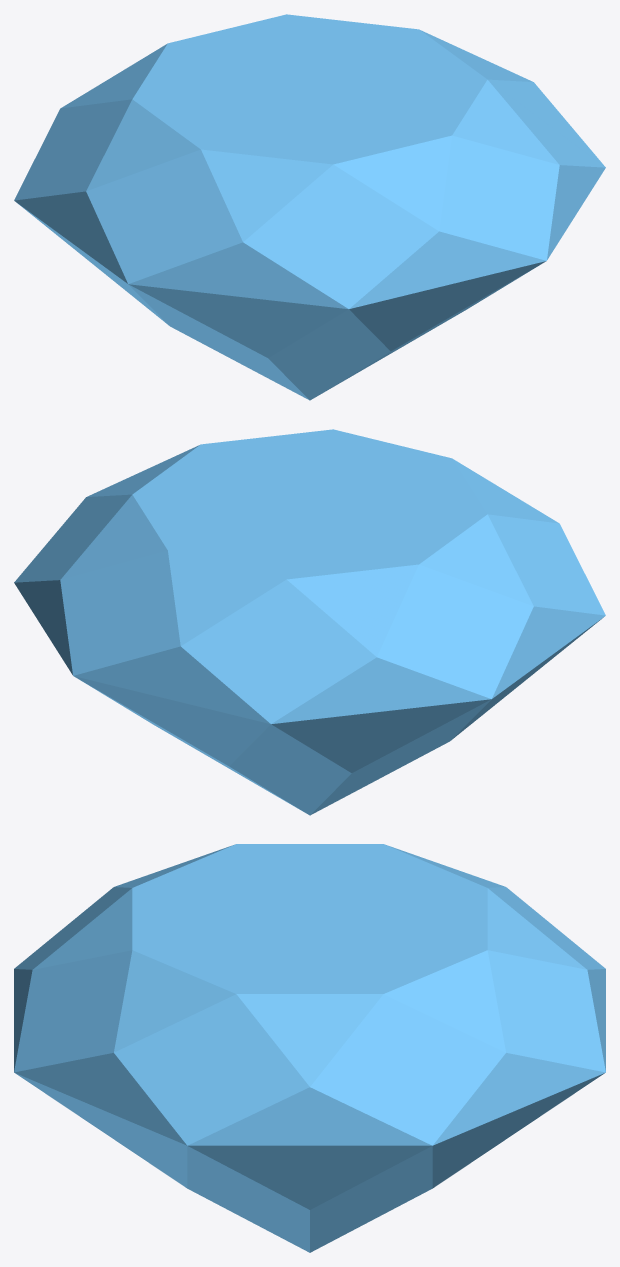
The model's file is gemma con texture2.fbx.
3 views of the same model, one above another, from view 1: azimuth 30°, elevation 25°; view 2: azimuth 150°, elevation 25°; view 3: azimuth 270°, elevation 25° (orthographic). The views are drawn at different scales.
Visible parts, largest first — view 1: Gem; view 2: Gem; view 3: Gem.
Part boxes in pixels (x1,y1,x2,y2): Gem: (14,14,605,400); Gem: (14,429,605,815); Gem: (14,844,605,1252).
Bounding box in the file's own units: 200 × 124 × 200.
Materials: 1 (1 with a texture image).
